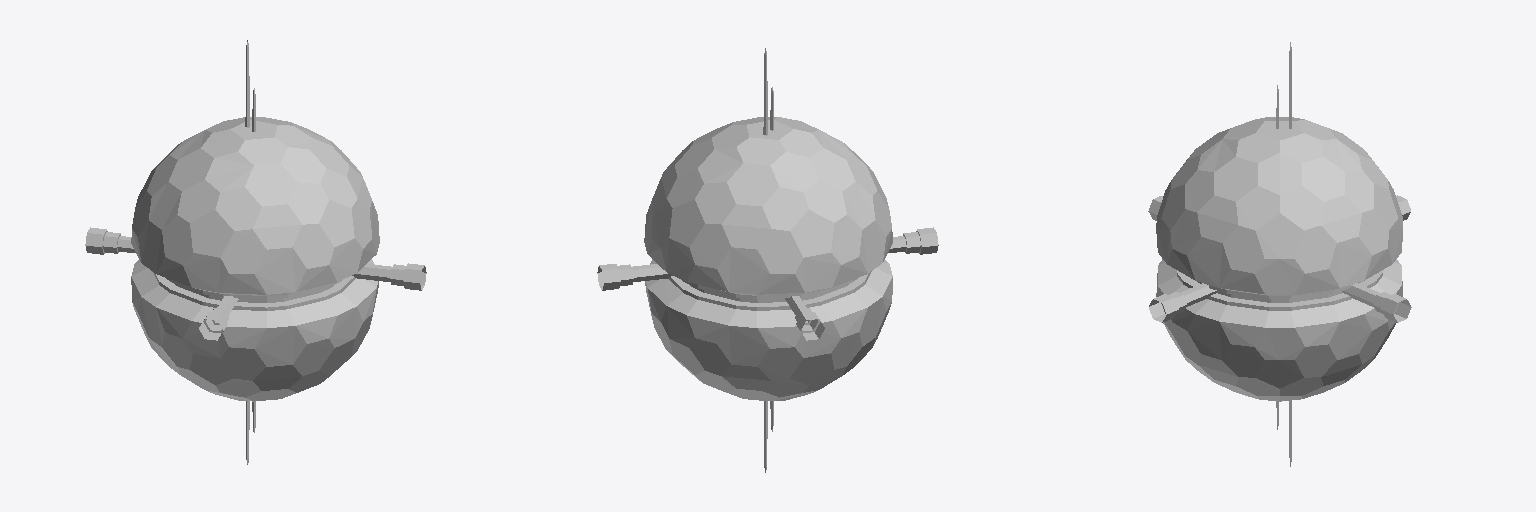
File: EnemyBase.obj
The picture shows the model from 3 angles: view 1: azimuth 30°, elevation 25°; view 2: azimuth 150°, elevation 25°; view 3: azimuth 270°, elevation 25°; orthographic projection.
Parts seen in each view (by area): view 1: polySurface1; view 2: polySurface1; view 3: polySurface1.
Part boxes in pixels (x1,y1,x2,y2): polySurface1: (85,117,426,401); polySurface1: (597,117,938,400); polySurface1: (1148,117,1411,401).
Size of the model in its own units: 32.23 by 57.59 by 32.23.